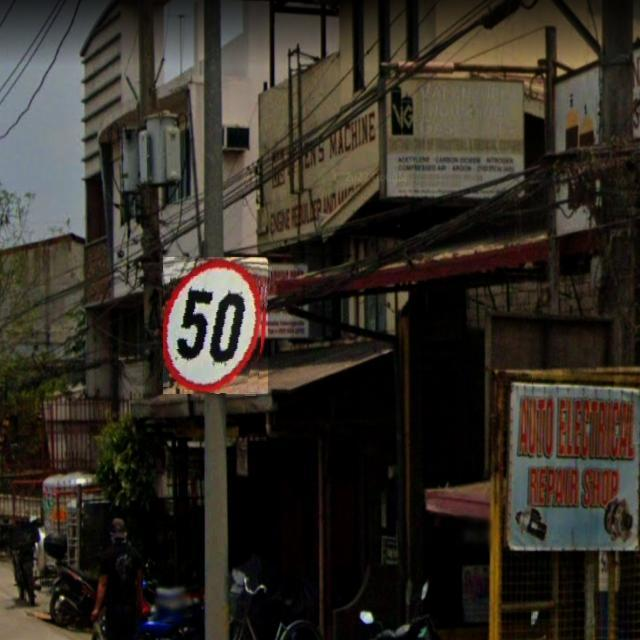50 kph: (163, 257, 268, 394)
